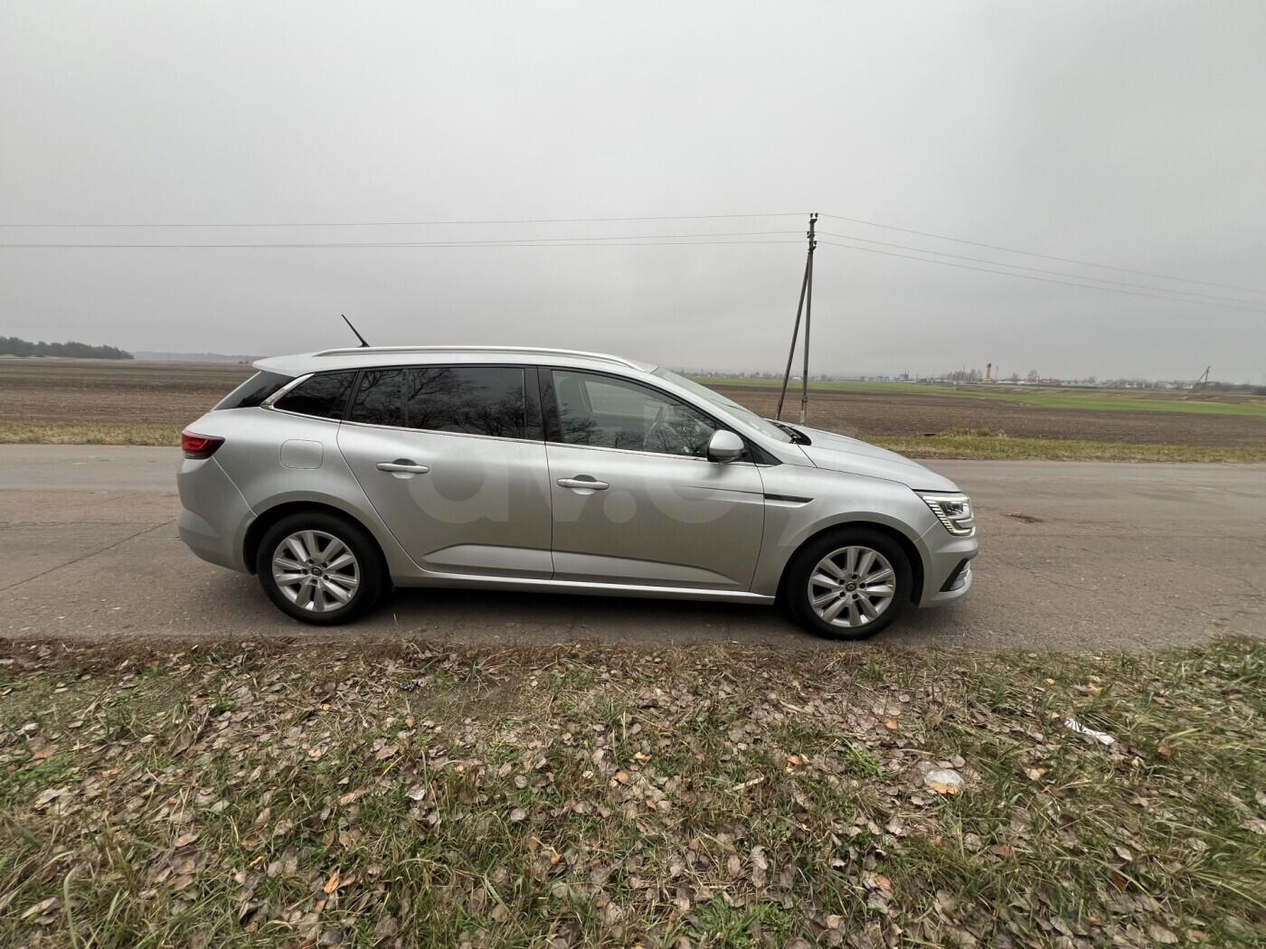Megane_2020: (174, 340, 1013, 662)
